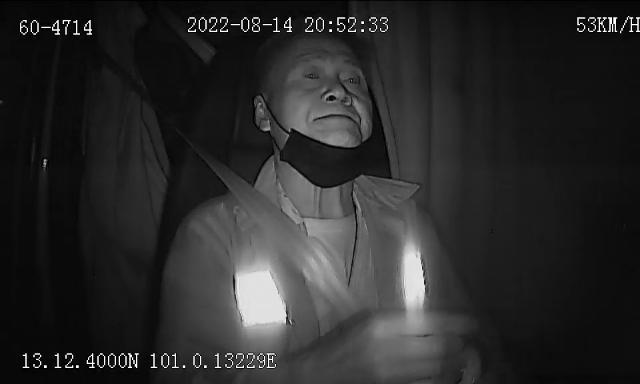SafeDriving: (296, 62, 328, 86)
Seatbelt: (205, 153, 368, 325)
